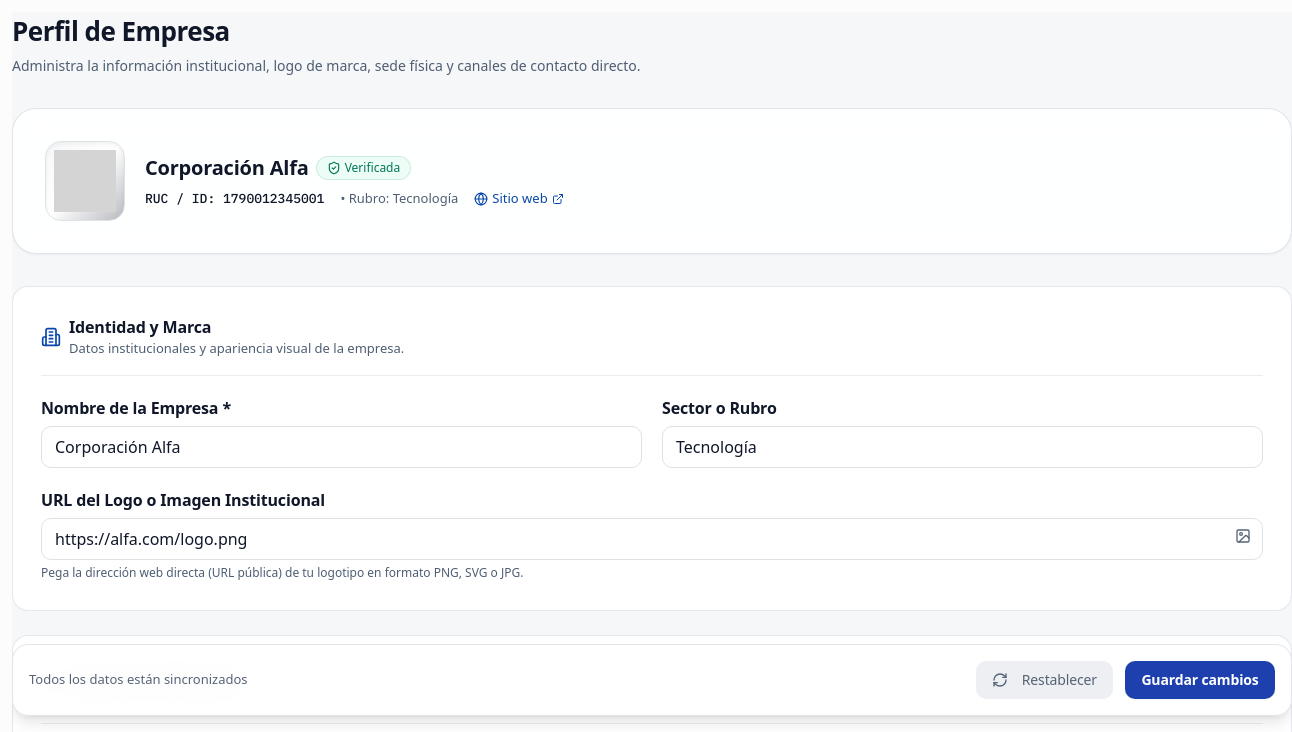
Test: CompanyProfilePage › allows resetting changes back to loaded company values
Replace the text in the field showing "Corporación Alfa" with "Nombre Cambiado" at (342, 446), box [41,426,642,468]
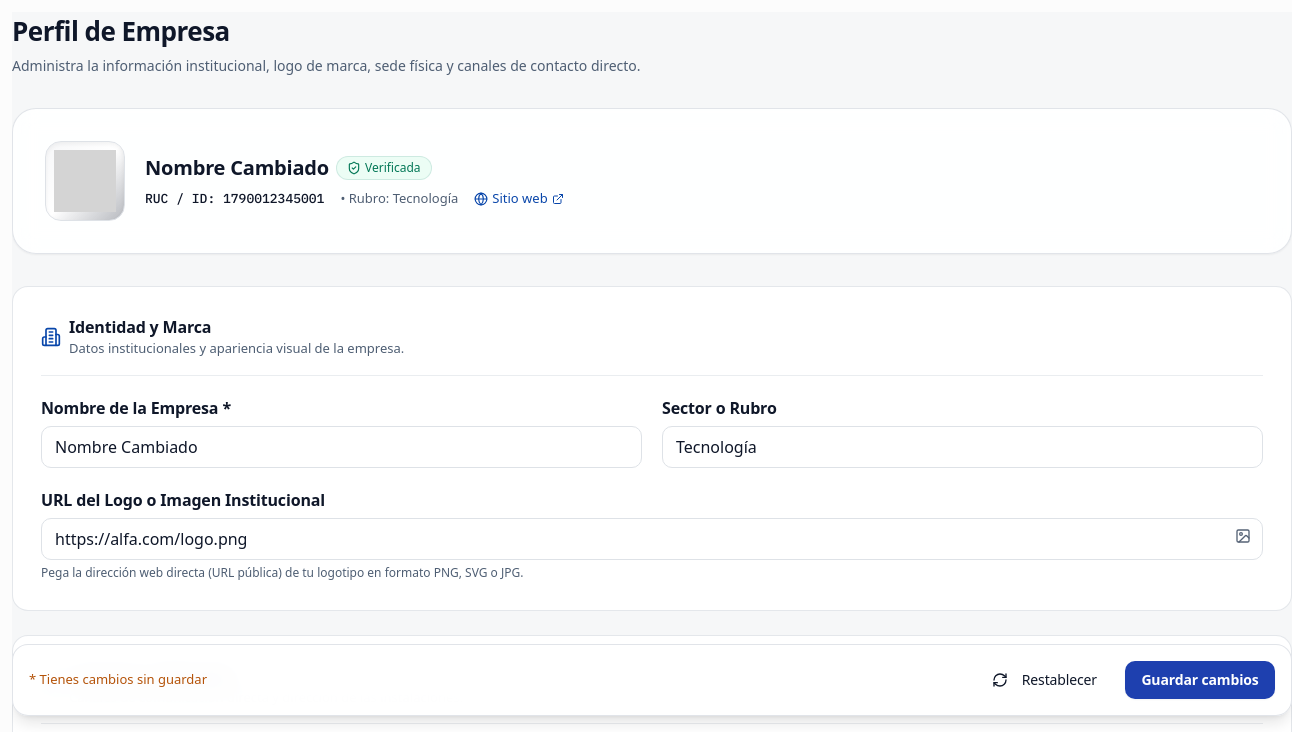
Click the button "Restablecer" at (1044, 680), box [976,661,1113,699]
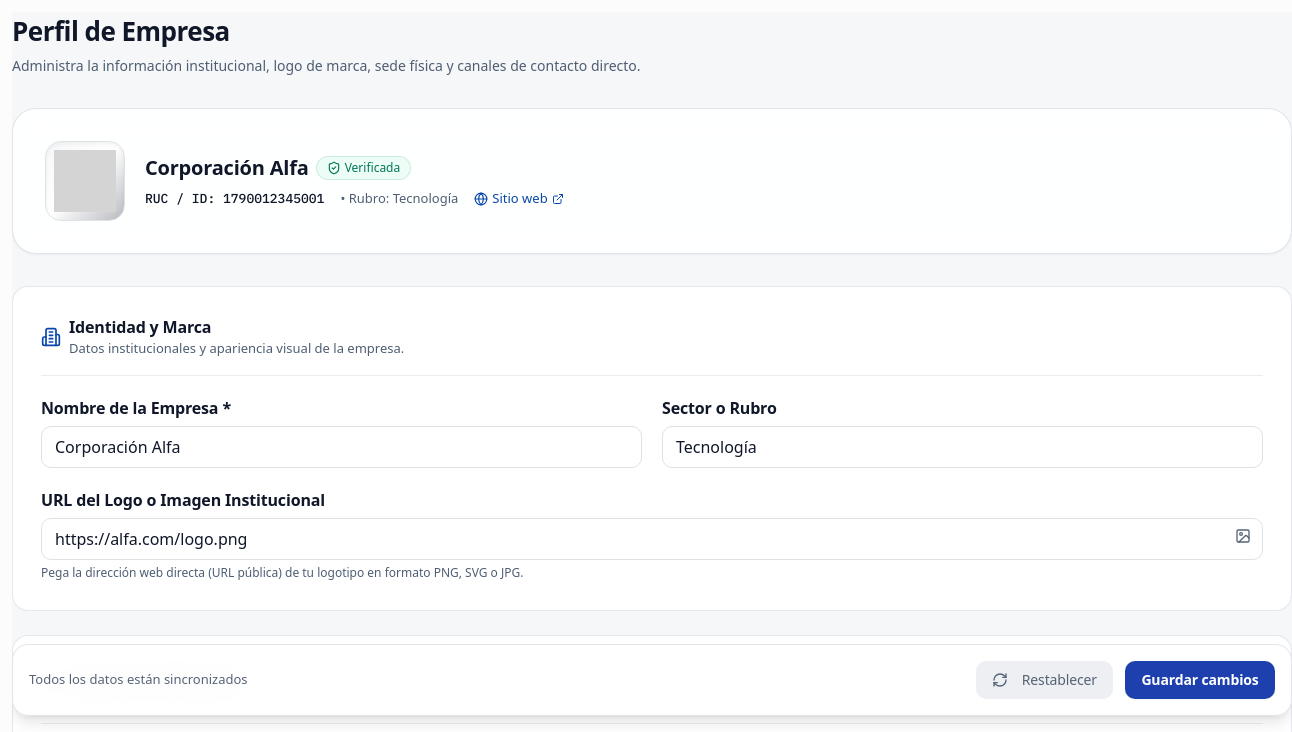
Now the field showing "Corporación Alfa" is shown, box [41,426,642,468]
Now the text "Todos los datos están sincronizados" is shown, box [29,670,248,690]
